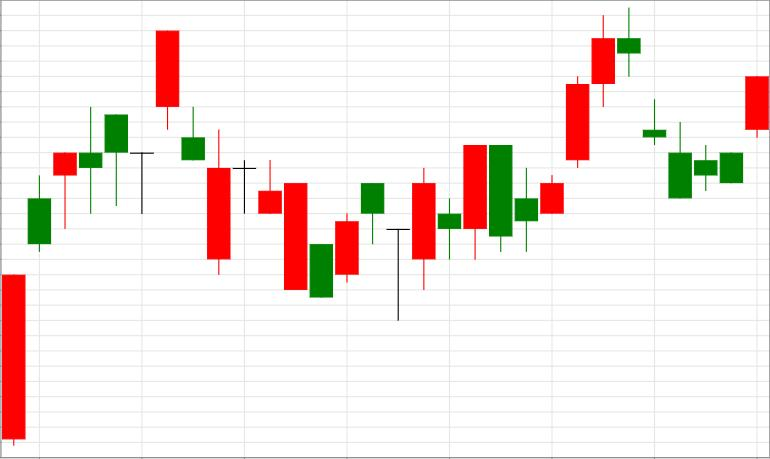hanging_man_fall: (2, 107, 128, 447)
